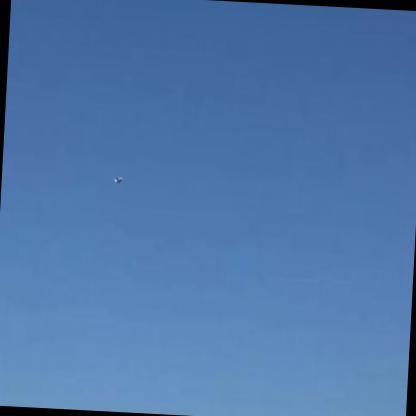plane: (111, 171, 128, 187)
